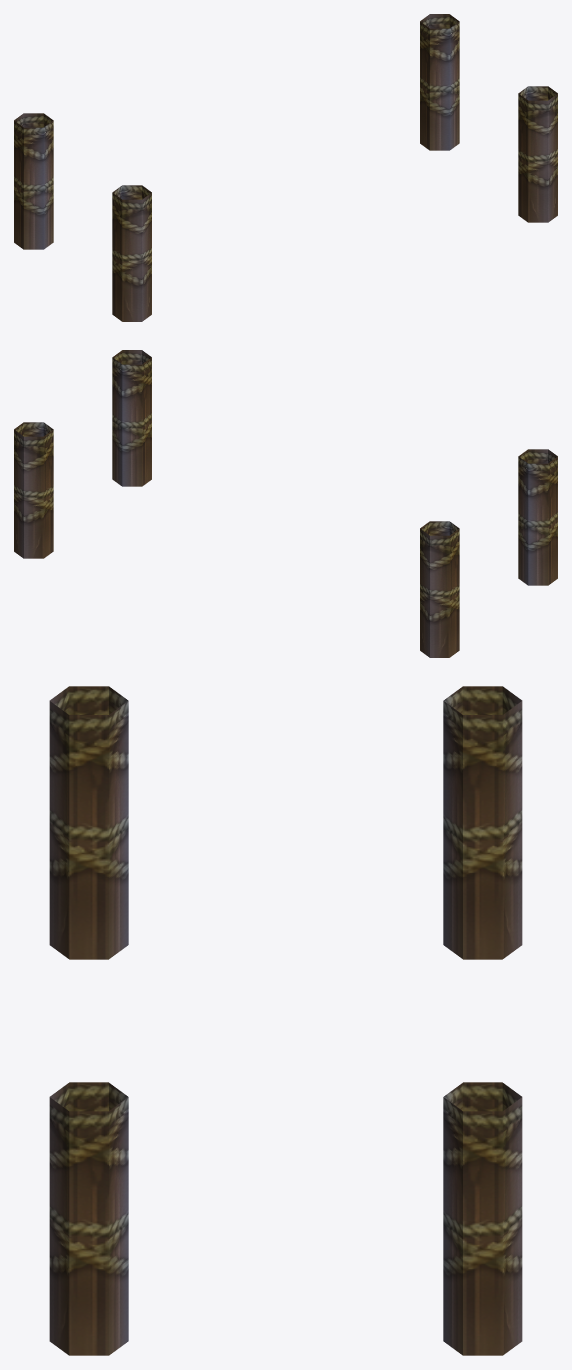
Rendered from scenes_beach_road02a.FBX.
The picture shows the model from 3 angles, top to bottom: view 1: azimuth 30°, elevation 25°; view 2: azimuth 150°, elevation 25°; view 3: azimuth 270°, elevation 25°; orthographic projection. The views are drawn at different scales.
Visible parts, largest first — view 1: scenes_beach_road02; view 2: scenes_beach_road02; view 3: scenes_beach_road02.
Boxes of the visible parts, x1=… form: scenes_beach_road02: x1=14, y1=14, x2=557, y2=321; scenes_beach_road02: x1=14, y1=350, x2=557, y2=657; scenes_beach_road02: x1=49, y1=686, x2=522, y2=1355.
Size of the model in its own units: 420 by 113 by 197.
